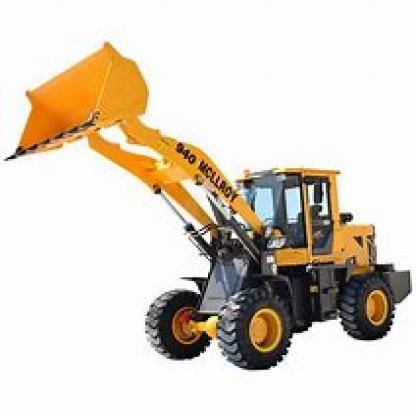bull_dozer/loader/grader: (2, 33, 414, 370)
